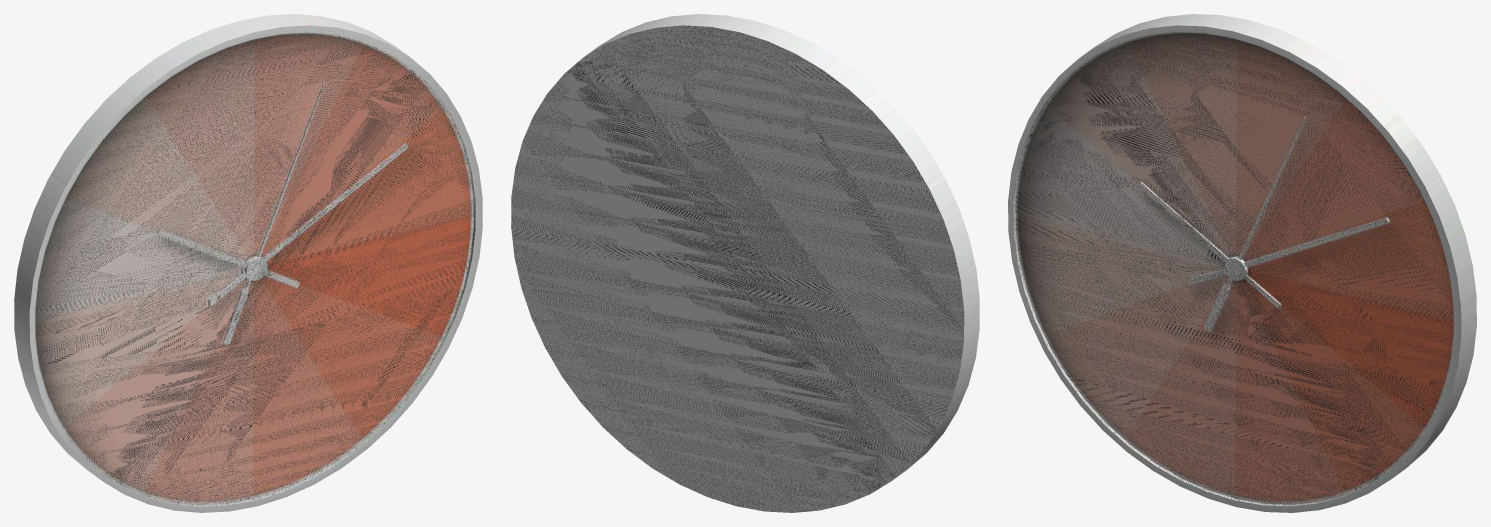
The model's file is Orange+wall+Clock.dae.
3 views of the same model, side by side, from view 1: azimuth 30°, elevation 25°; view 2: azimuth 150°, elevation 25°; view 3: azimuth 330°, elevation 25° (orthographic).
Parts seen in each view (by area): view 1: group_0 (×3); view 2: group_0 (×2); view 3: group_0 (×3).
Boxes of the visible parts, box(x1,y1,x2,y2) form: group_0 (×3): box(14, 14, 482, 512); group_0 (×2): box(511, 14, 979, 512); group_0 (×3): box(1008, 14, 1476, 512).
Size of the model in its own units: 12.97 by 0.7835 by 12.99.
